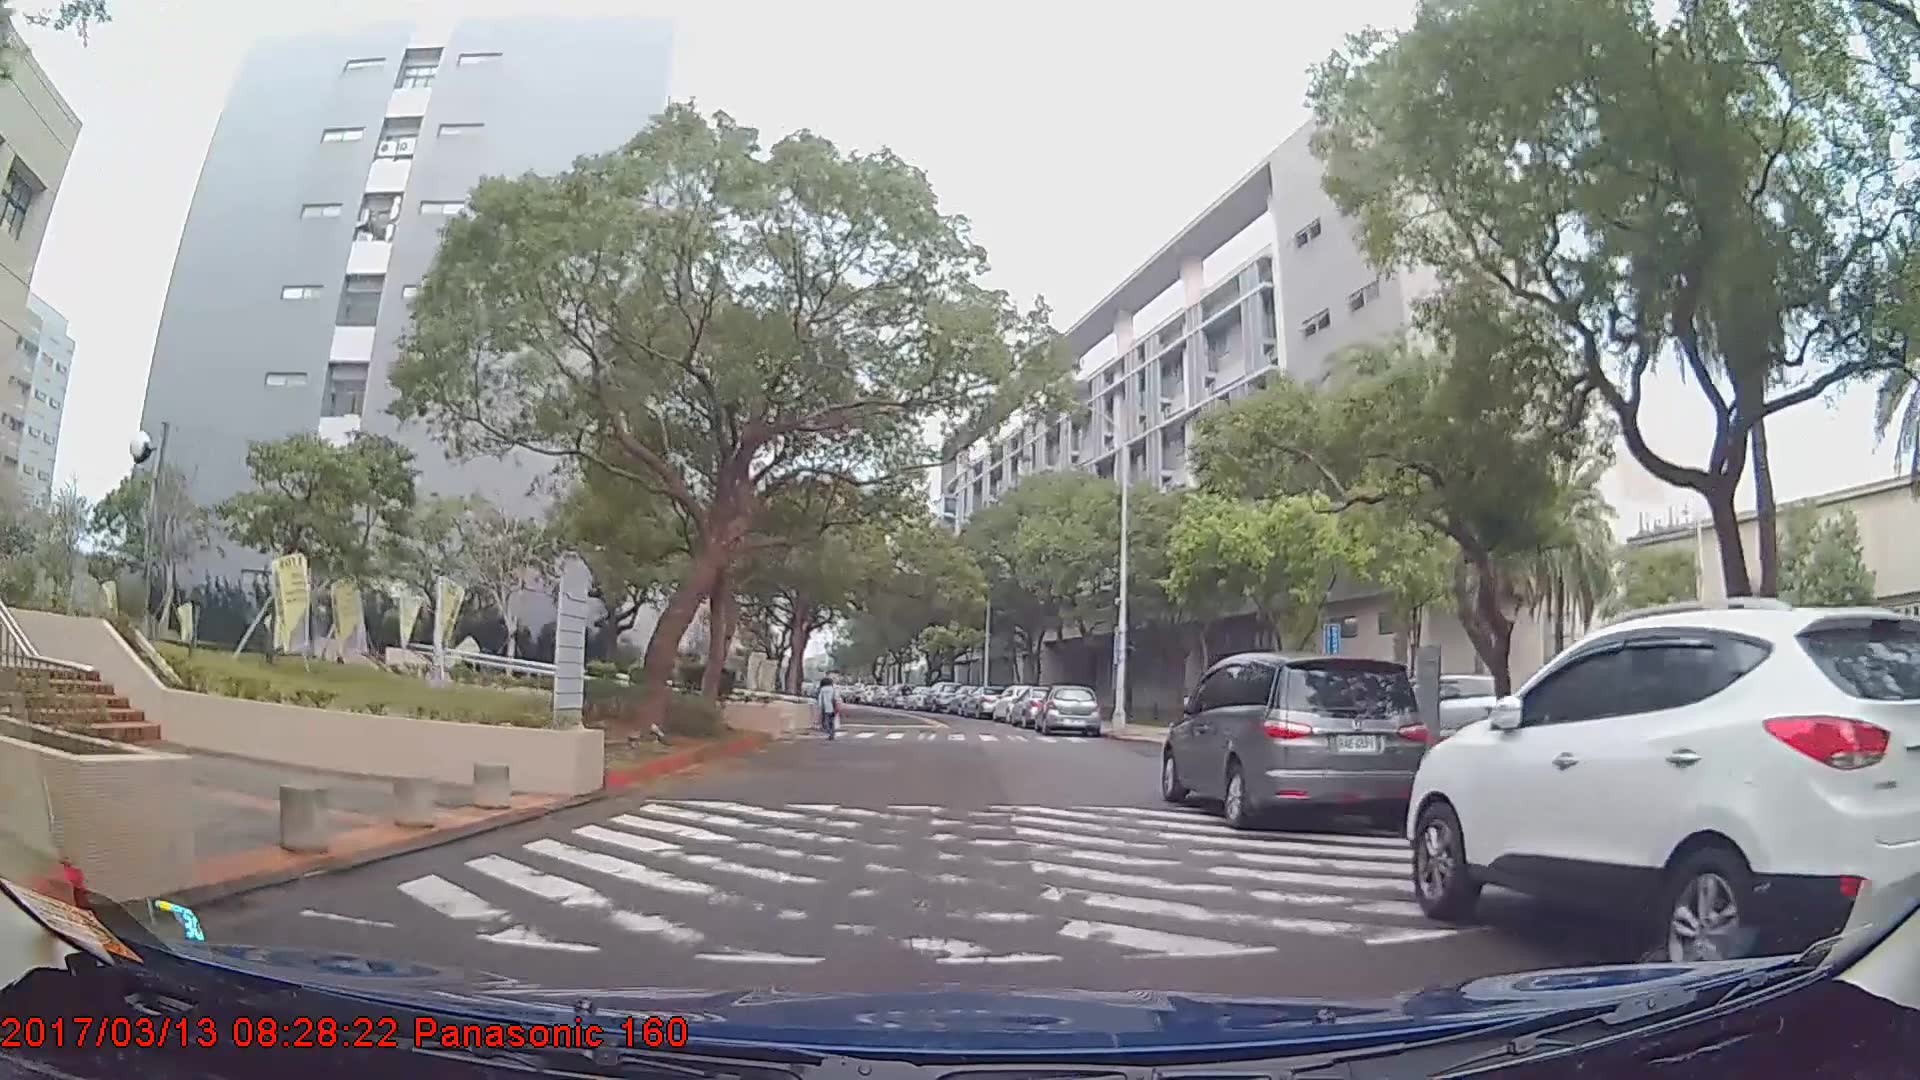pedestrian: (815, 679, 846, 745), (817, 667, 842, 730)
vehicle: (1404, 602, 1919, 988), (1159, 650, 1428, 830), (1041, 681, 1102, 734), (965, 686, 1006, 717), (921, 680, 960, 712)
